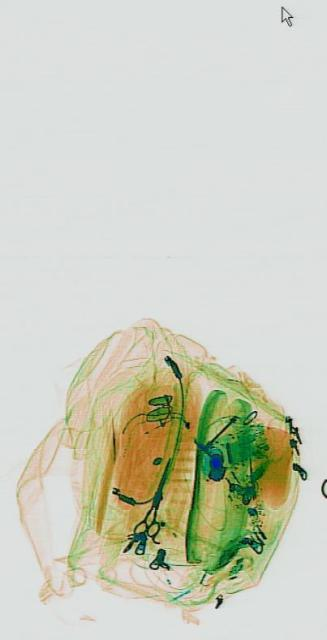Scissors: (129, 446, 176, 552)
